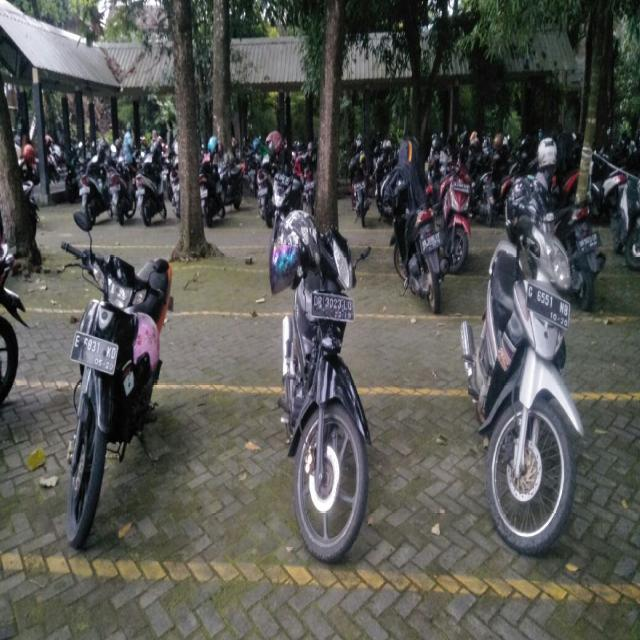plate: (70, 330, 117, 378), (524, 282, 570, 331), (310, 288, 355, 322)
